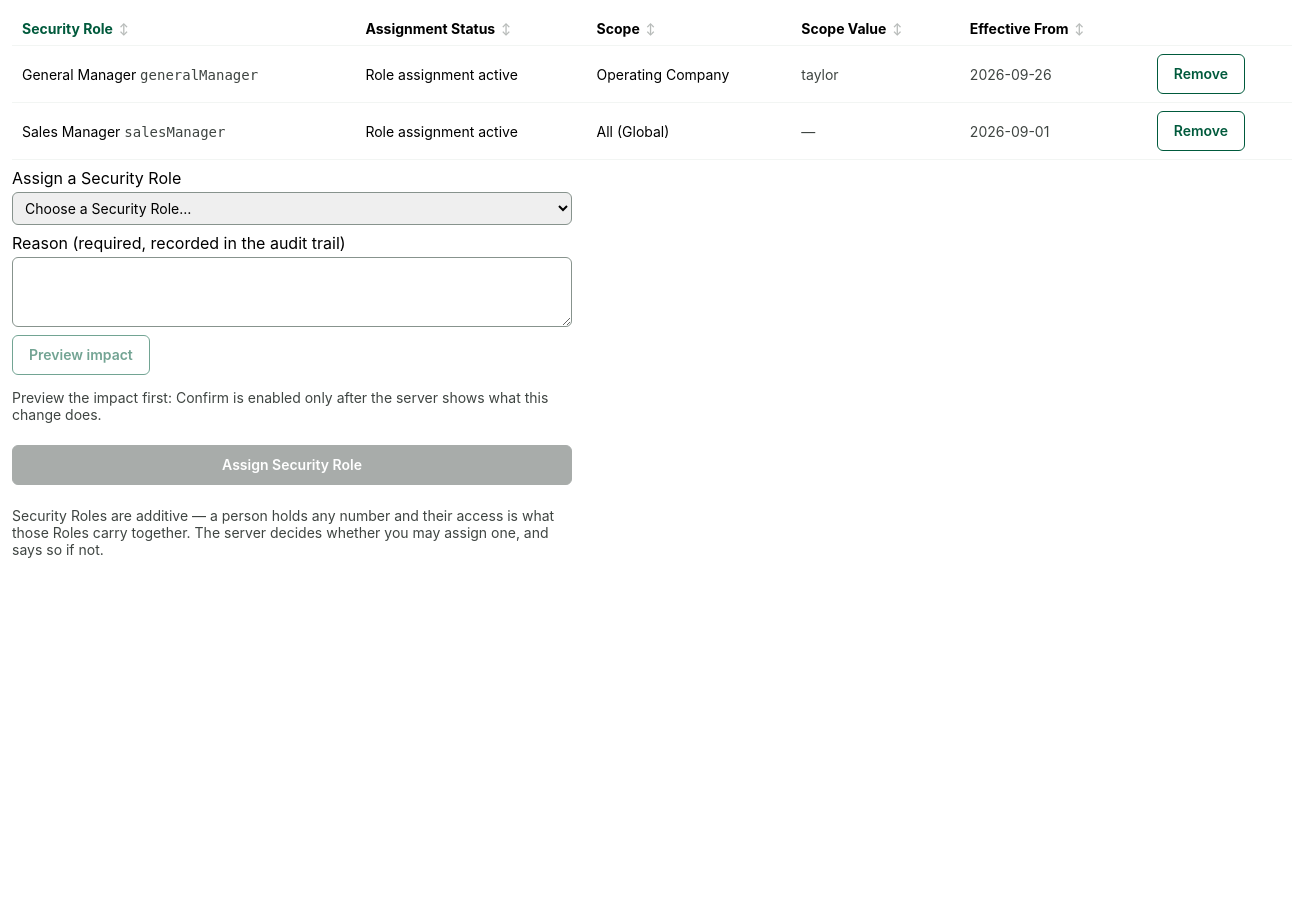
Test: Employee > Security Roles: assignment scope from the server › WITHOUT the server's scope vocabulary only a global assignment is offered -- never a local scope list
Select "General Manager" in the dropdown named "Security Role to assign": (292,208) [12,192,572,225]
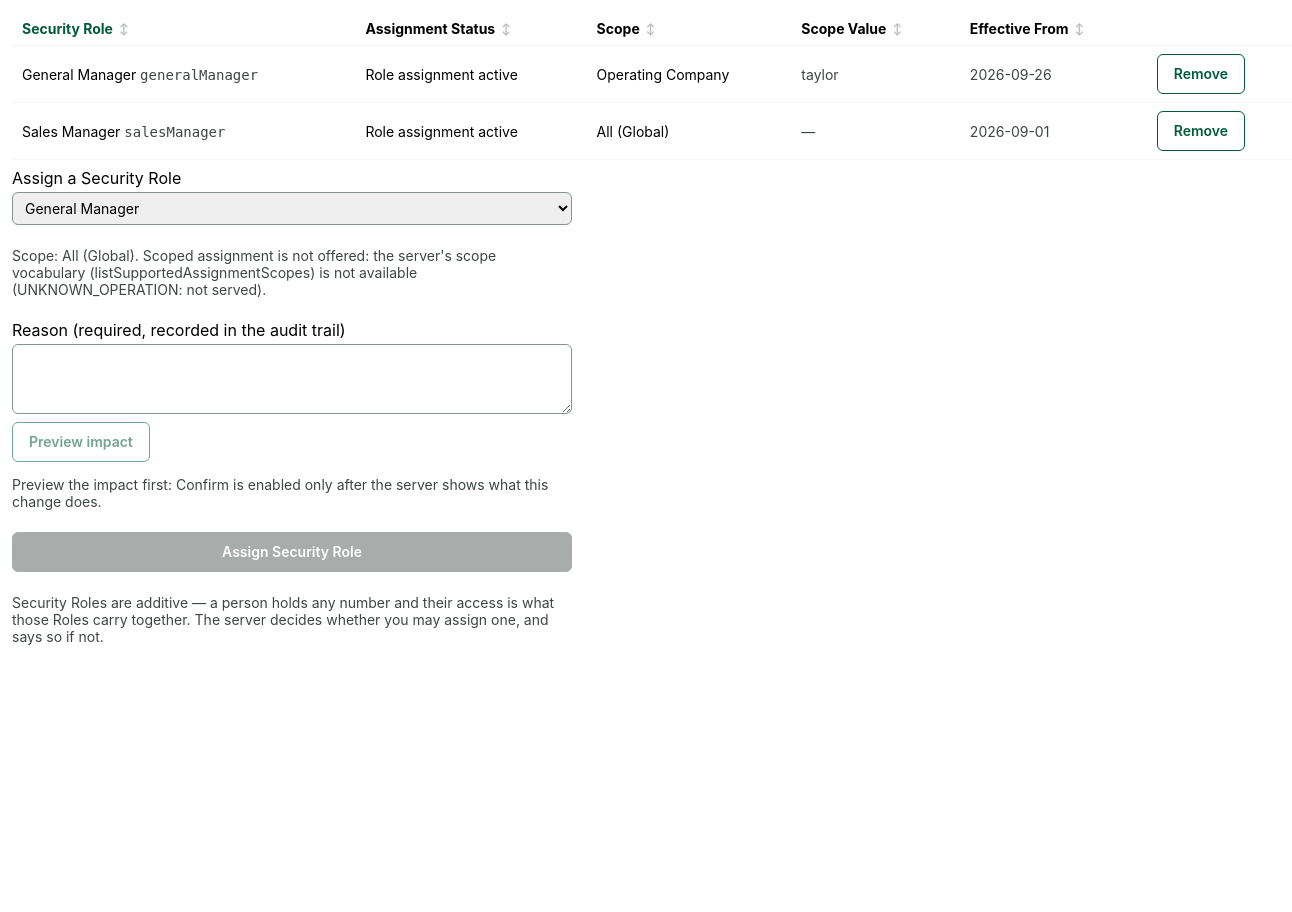
Expected: the text "Scope: All (Global)" is shown, [12,247,496,298]
